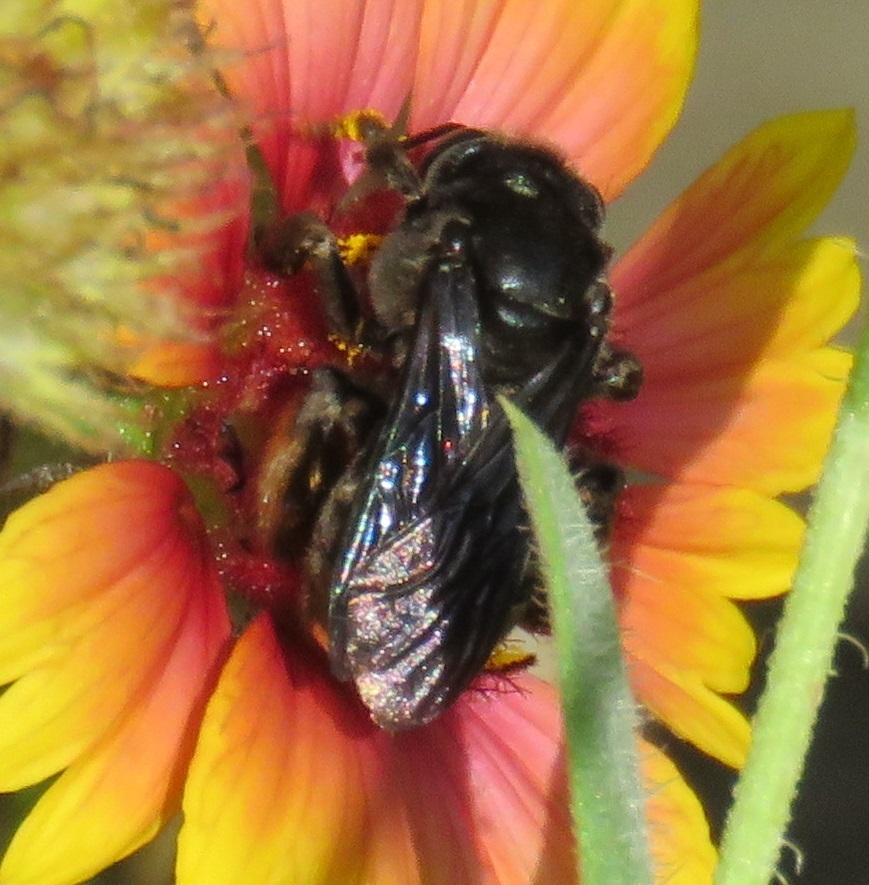not_bumblebee: (224, 118, 645, 747)
